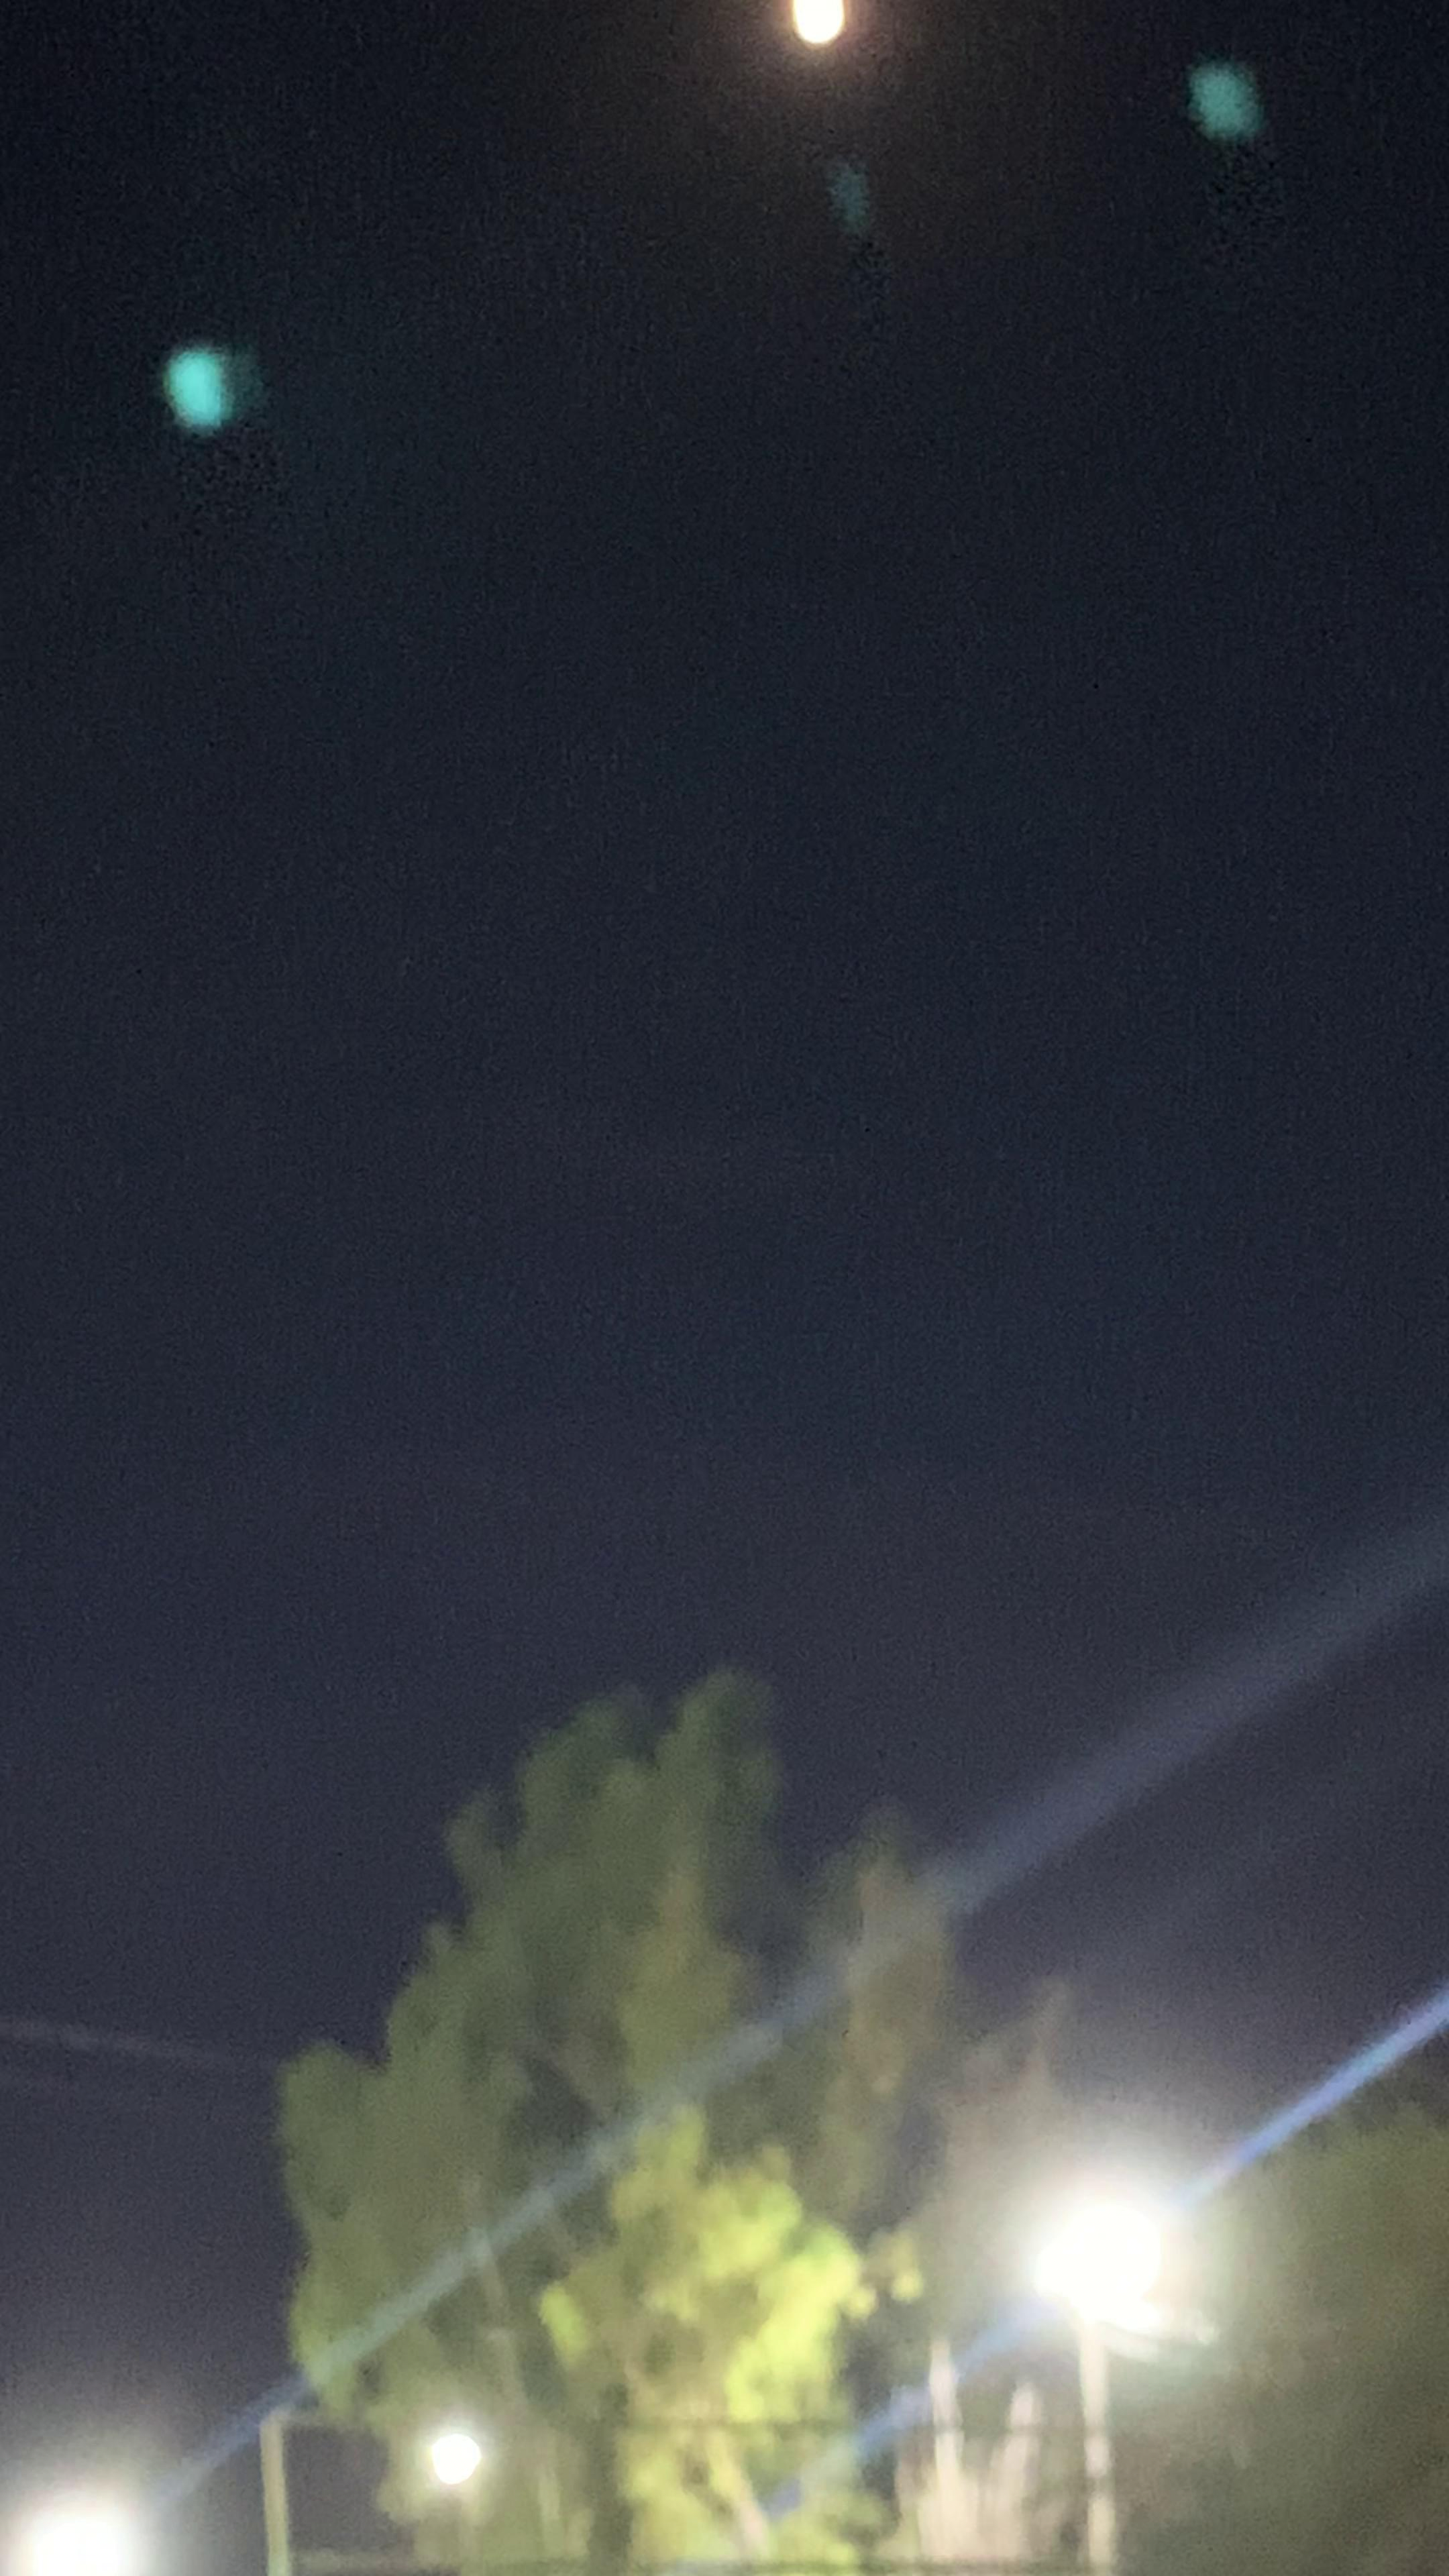moon: (752, 5, 897, 136)
